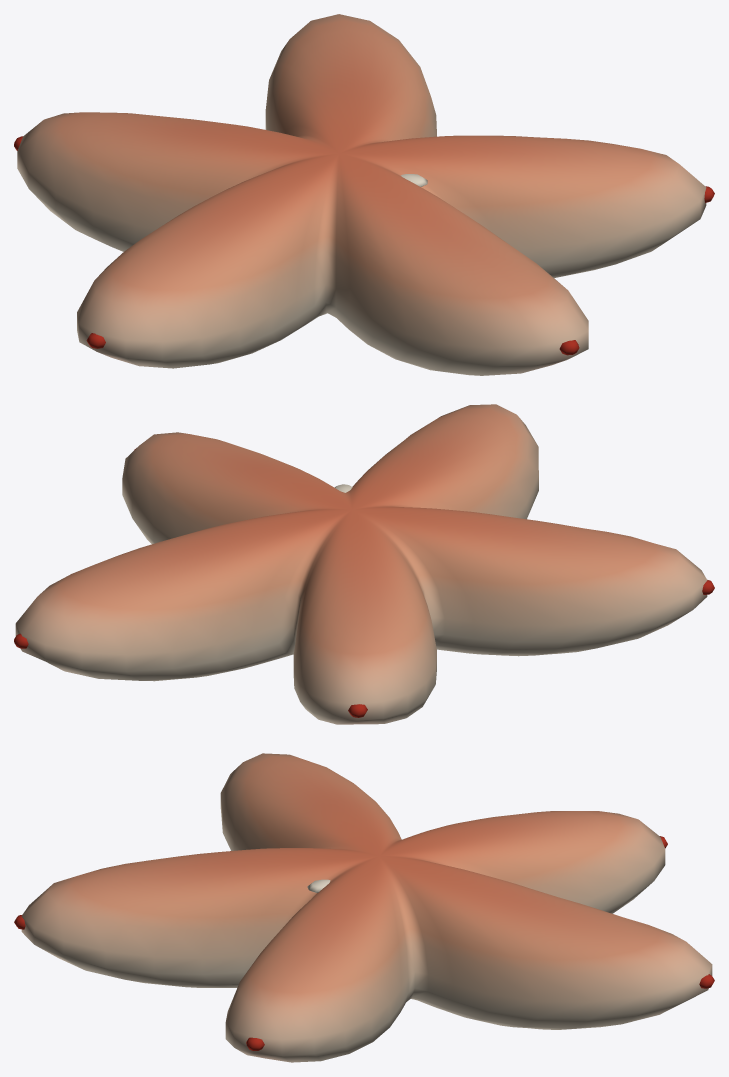
The model's file is starfish.glb.
3 views of the same model, one above another, from view 1: azimuth 30°, elevation 25°; view 2: azimuth 150°, elevation 25°; view 3: azimuth 270°, elevation 25° (orthographic). The views are drawn at different scales.
Visible parts, largest first — view 1: Body; view 2: Body; view 3: Body.
Boxes of the visible parts, x1,y1,x2,y2 form: Body: (14, 14, 714, 375); Body: (14, 404, 714, 724); Body: (14, 753, 714, 1062).
Size of the model in its own units: 0.7996 by 0.1597 by 0.8575.
